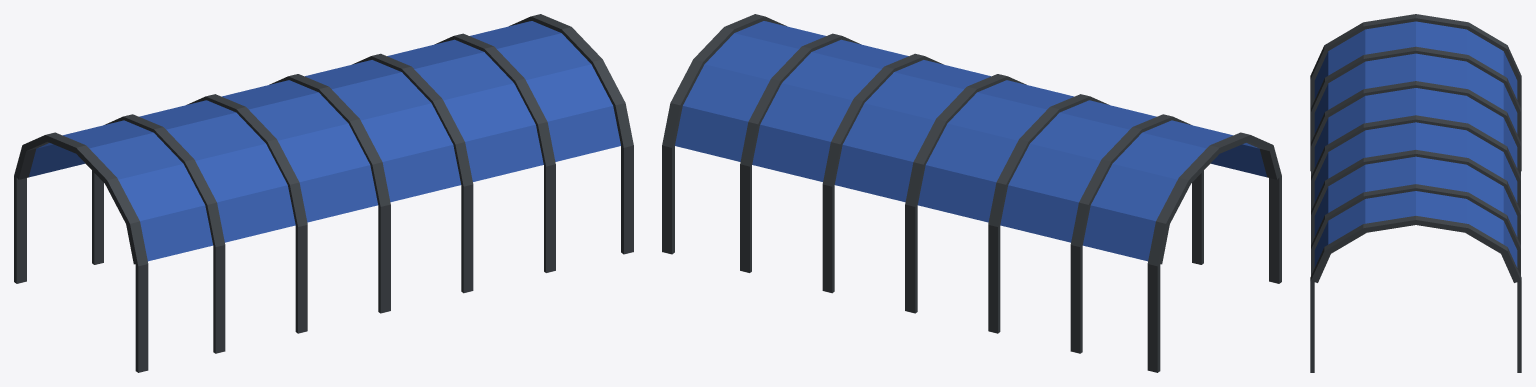
File: StationStop_1.fbx
The picture shows the model from 3 angles, left to right: view 1: azimuth 30°, elevation 25°; view 2: azimuth 150°, elevation 25°; view 3: azimuth 270°, elevation 25°; orthographic projection. The views are drawn at different scales.
Visible parts, largest first — view 1: StationStop_1; view 2: StationStop_1; view 3: StationStop_1.
Boxes of the visible parts, x1,y1,x2,y2 form: StationStop_1: (14, 14, 633, 372); StationStop_1: (662, 14, 1281, 372); StationStop_1: (1310, 14, 1521, 372).
Size of the model in its own units: 1019 by 353 by 442.
